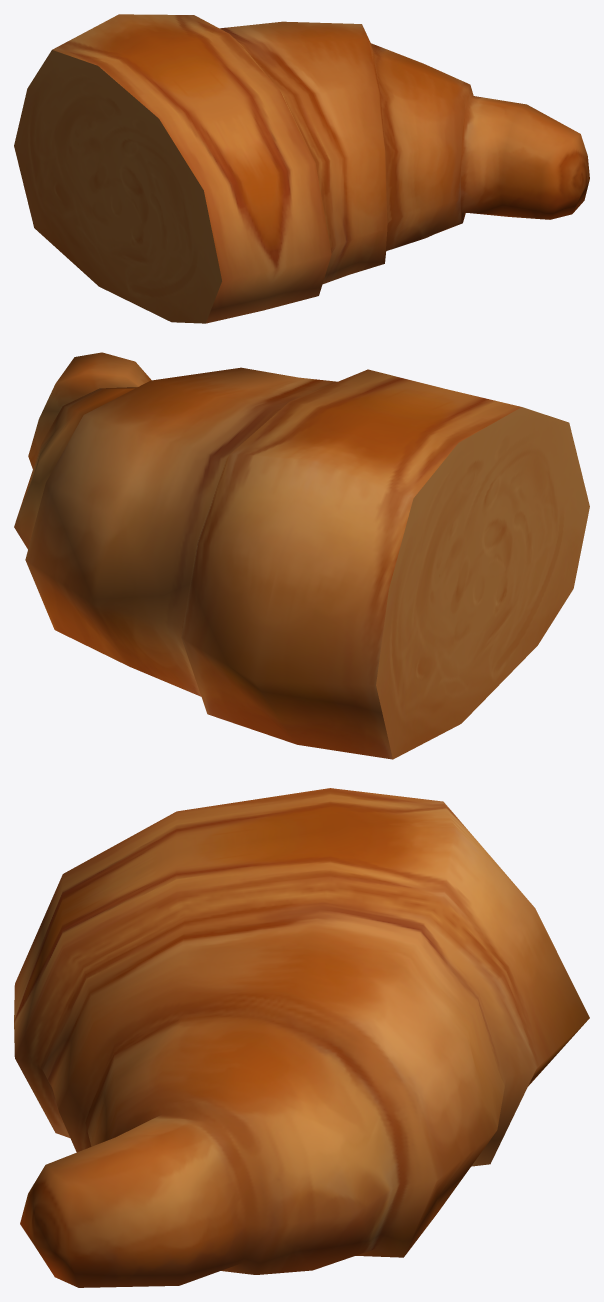
The model's file is croissanthalf.fbx.
3 renders of one model, top to bottom at view 1: azimuth 30°, elevation 25°; view 2: azimuth 150°, elevation 25°; view 3: azimuth 270°, elevation 25°, orthographic. The views are drawn at different scales.
Visible parts, largest first — view 1: croissanthalf; view 2: croissanthalf; view 3: croissanthalf.
Boxes of the visible parts, <box> form: croissanthalf: <box>14,14,589,323</box>; croissanthalf: <box>14,352,589,759</box>; croissanthalf: <box>14,788,589,1287</box>.
Bounding box in the file's own units: 26.56 × 13.82 × 23.27.
